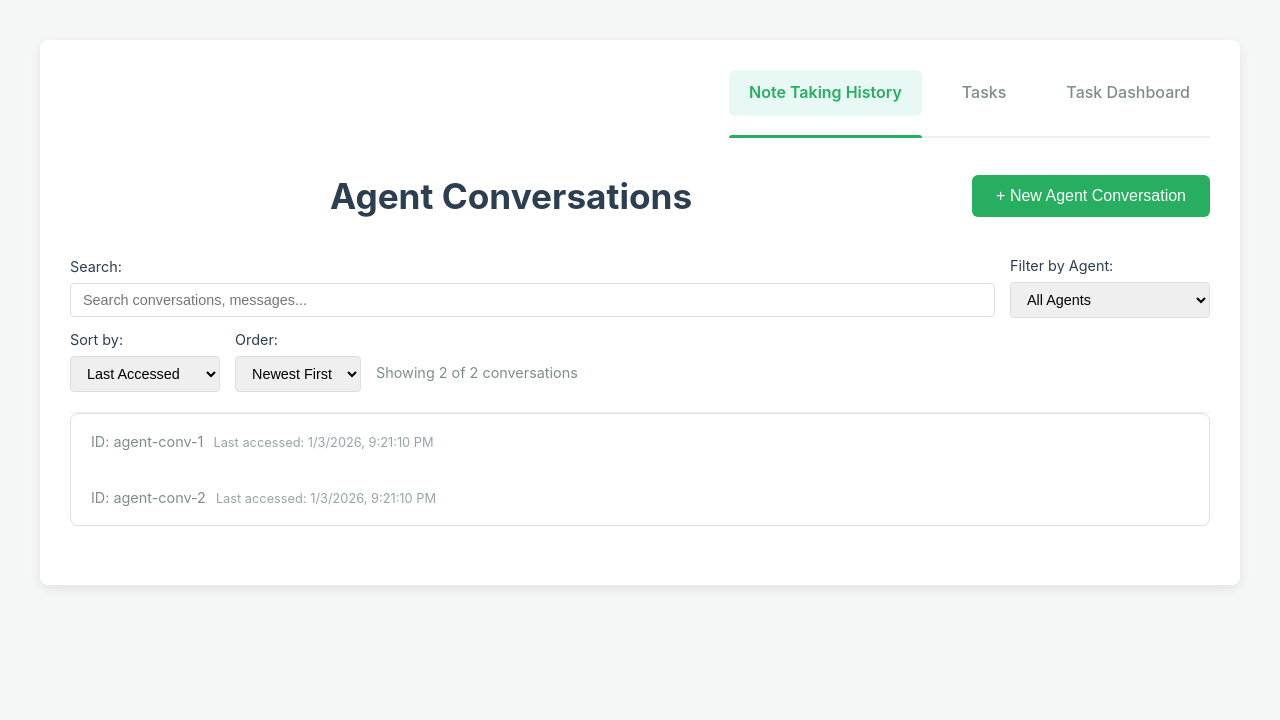
Test: AgentConversationListView › New conversation creation › shows error message when creation fails
Expected: the text "ID: agent-conv-1" is shown, [91,433,203,450]
What coordinates should you click on to do the following:
click the button "+ New Agent Conversation"
I would click on:
 (1091, 196)
Its box is [972,175,1210,217].
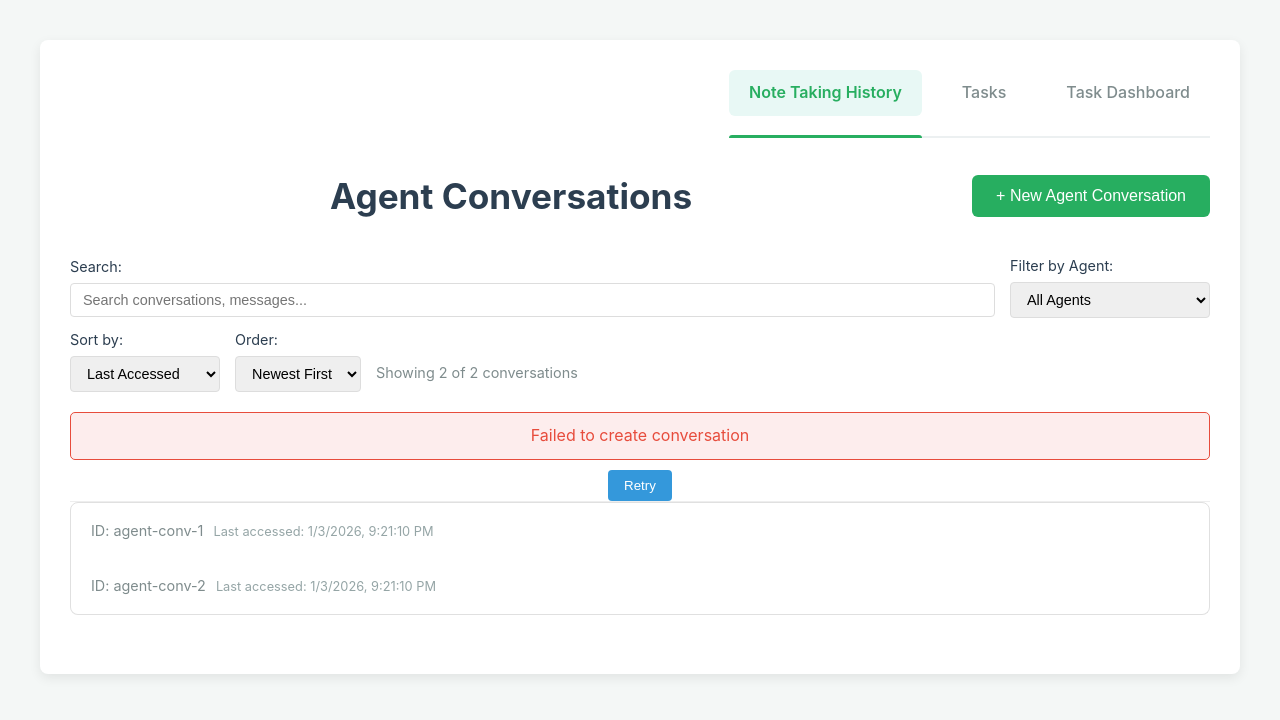
Expected: the text "Failed to create conversation" is shown, [70,412,1210,460]
